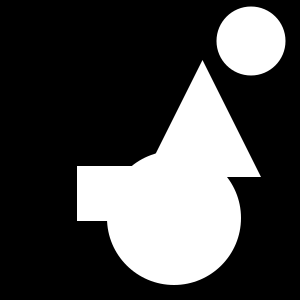circle: (77, 166, 132, 221)
rectangle: (107, 151, 241, 285), (216, 6, 286, 76)
triangle: (144, 60, 261, 177)
